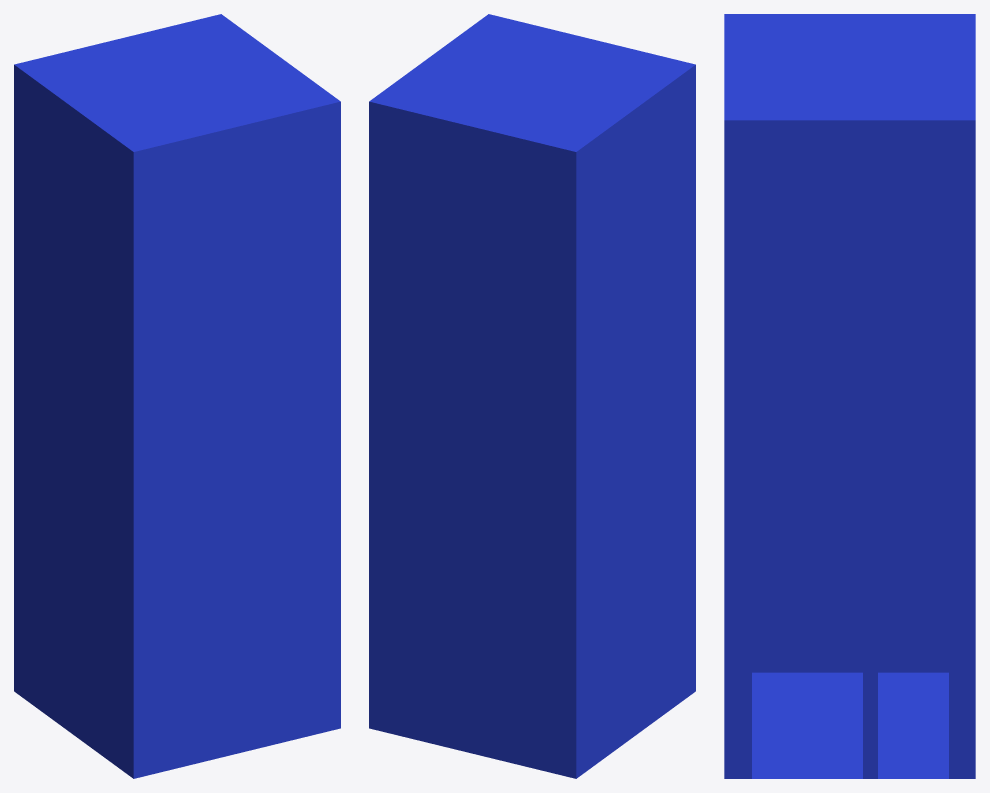
The picture shows the model from 3 angles, left to right: view 1: azimuth 30°, elevation 25°; view 2: azimuth 150°, elevation 25°; view 3: azimuth 270°, elevation 25°; orthographic projection. The views are drawn at different scales.
Visible parts, largest first — view 1: Cube.008; view 2: Cube.008; view 3: Cube.008.
Boxes of the visible parts, x1=… form: Cube.008: x1=14, y1=14, x2=340, y2=778; Cube.008: x1=369, y1=14, x2=695, y2=778; Cube.008: x1=724, y1=14, x2=975, y2=778.
Size of the model in its own units: 2 by 5.78 by 2.
